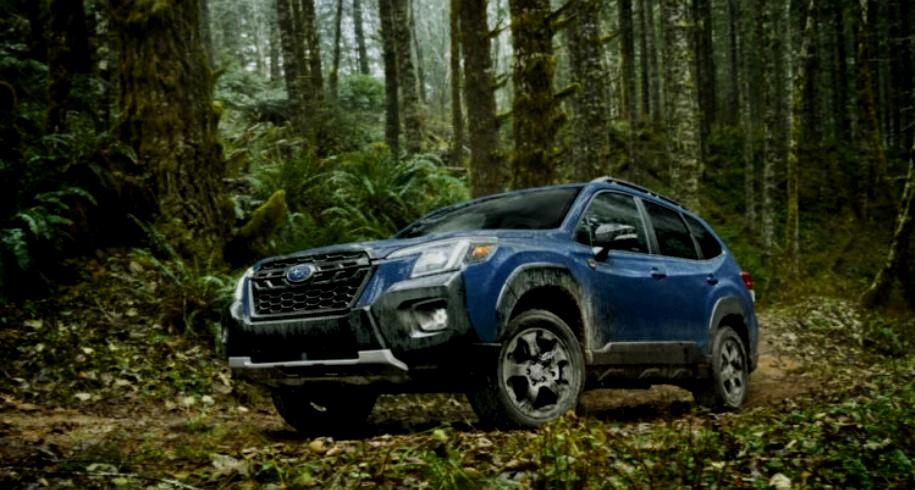subaru: (279, 260, 324, 286)
